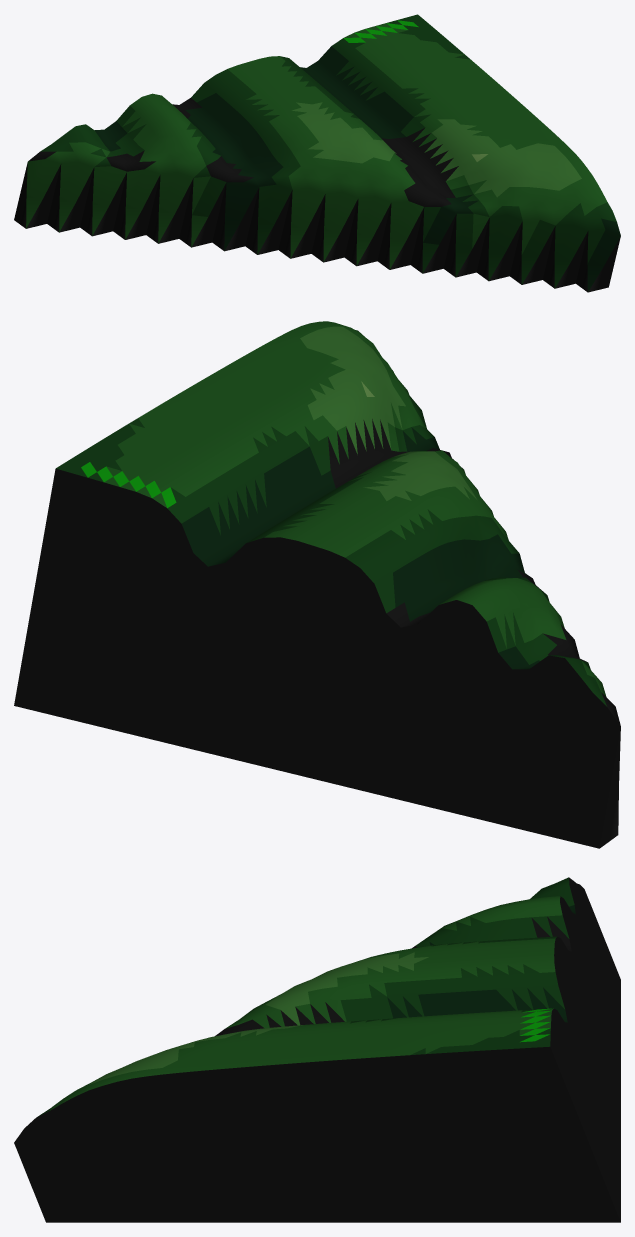
File: green_shell_267.glb
3 renders of one model, top to bottom at view 1: azimuth 30°, elevation 25°; view 2: azimuth 150°, elevation 25°; view 3: azimuth 270°, elevation 25°, orthographic. The views are drawn at different scales.
Parts seen in each view (by area): view 1: green_shell_267; view 2: green_shell_267; view 3: green_shell_267.
Part boxes in pixels (x1,y1,x2,y2): green_shell_267: (14,14,620,292); green_shell_267: (14,321,620,848); green_shell_267: (14,877,620,1222).
Bounding box in the file's own units: 18 × 6.08 × 19.01.
